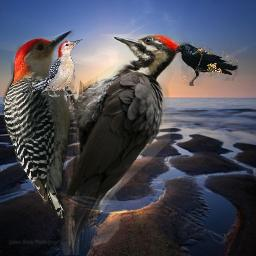Crow: (172, 42, 238, 86)
Woodpecker: (52, 34, 187, 255), (1, 29, 86, 219), (19, 38, 84, 97)
